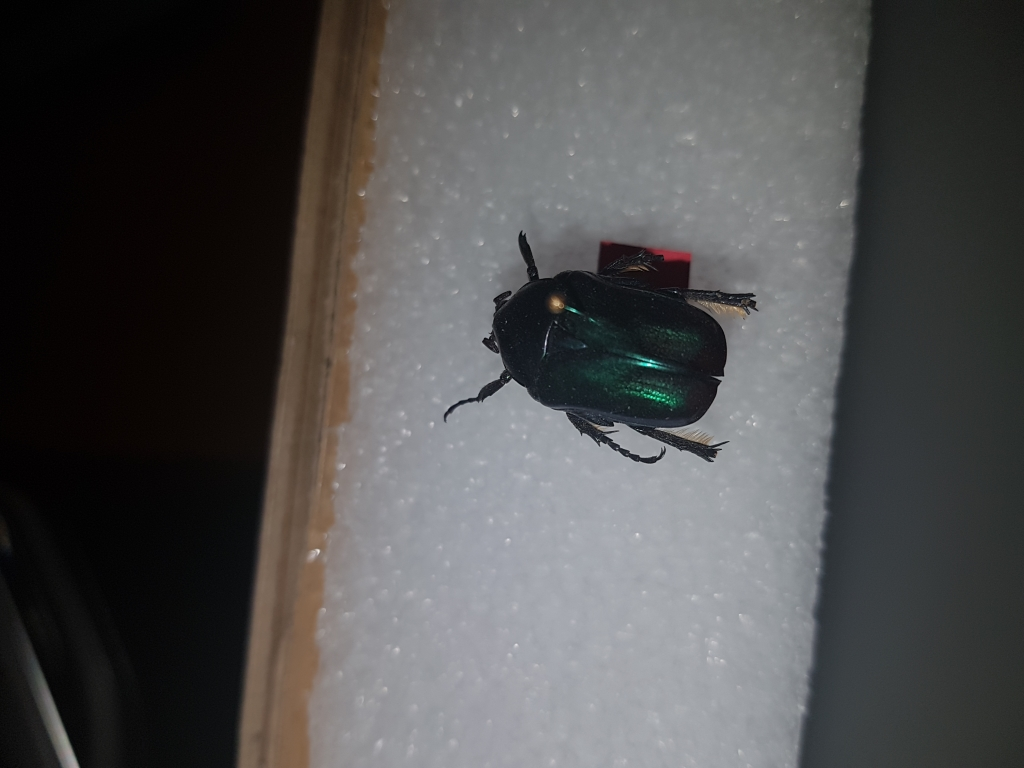Protaetia_besucheti: (445, 221, 763, 483)
